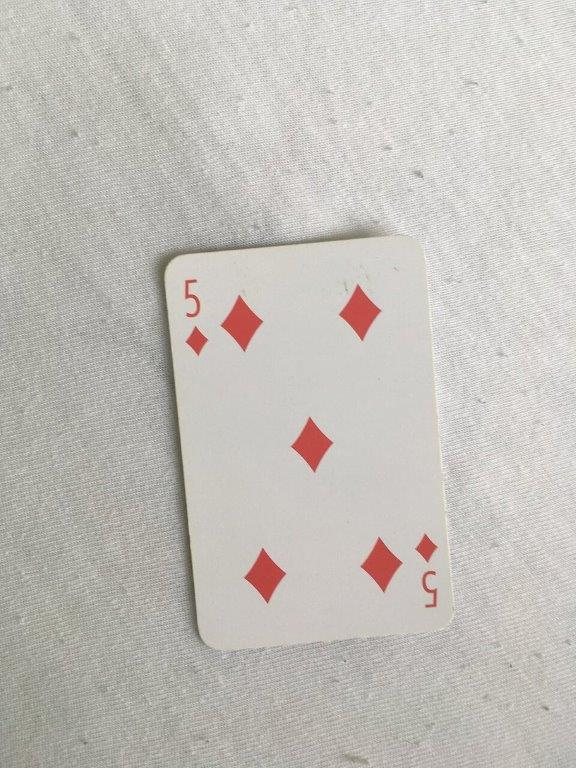5D: (161, 232, 458, 654)
